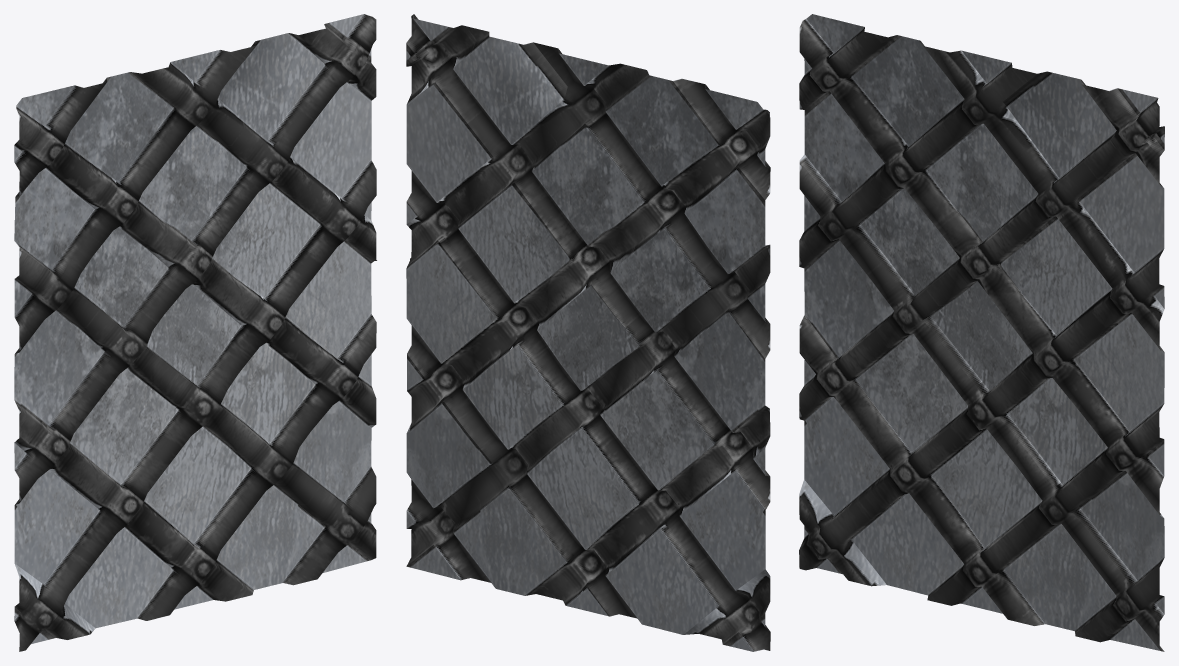
File: Glass 3 Diagonal.FBX
3 renders of one model, left to right at view 1: azimuth 30°, elevation 25°; view 2: azimuth 150°, elevation 25°; view 3: azimuth 330°, elevation 25°, orthographic.
Parts seen in each view (by area): view 1: Glass 3 Diagonal; view 2: Glass 3 Diagonal; view 3: Glass 3 Diagonal.
Boxes of the visible parts, left/top/right/bottom form: Glass 3 Diagonal: left=14, top=14, right=376, bottom=651; Glass 3 Diagonal: left=406, top=14, right=770, bottom=651; Glass 3 Diagonal: left=799, top=14, right=1164, bottom=651.
Size of the model in its own units: 43.71 by 1.96 by 63.91.
Materials: 1 (1 with a texture image).
